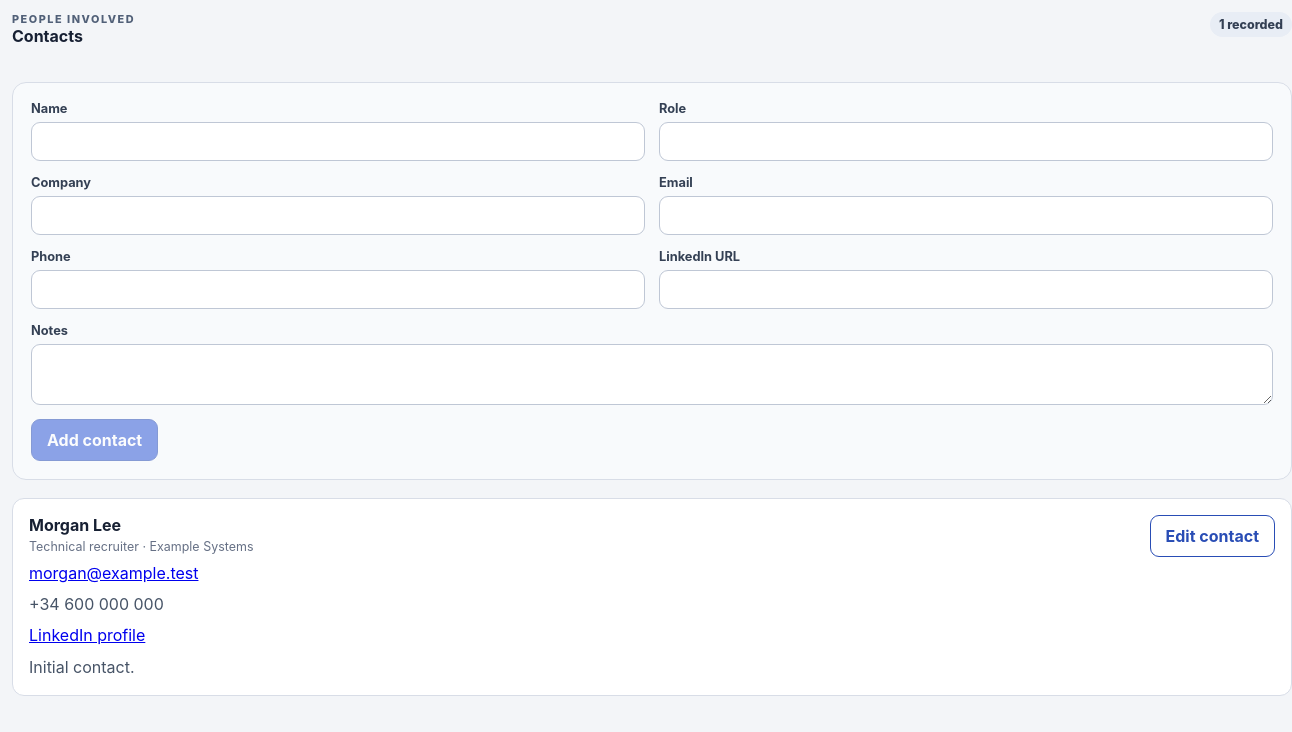
Test case: ApplicationContacts › cancels editing without mutating the saved contact
Expected: the text "Technical recruiter · Example Systems" is shown, top-left (29, 539), bottom-right (254, 554)
Click the button "Edit contact": (1212, 536) top-left (1150, 515), bottom-right (1275, 557)
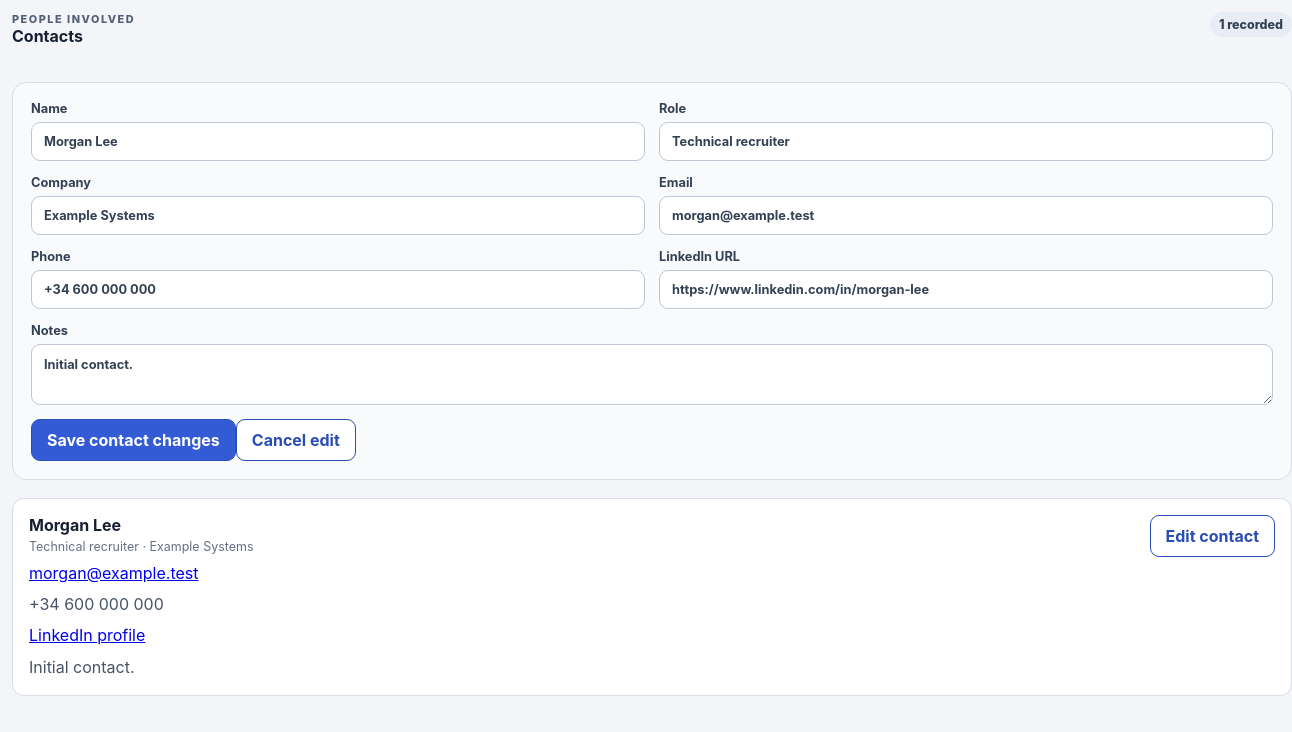
Replace the text in the field labelled "Name" with "Changed locally": (338, 142) top-left (31, 122), bottom-right (645, 161)
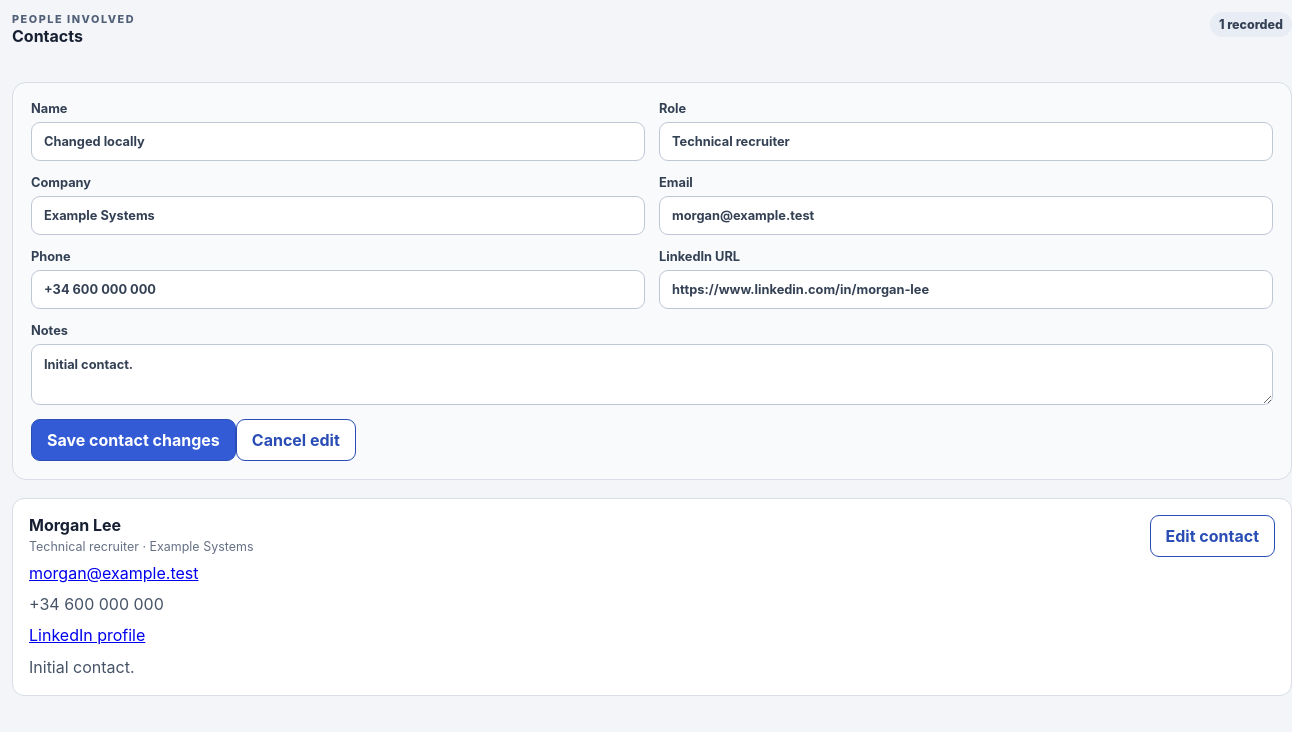
Click the button "Cancel edit": (296, 440) top-left (236, 419), bottom-right (356, 461)
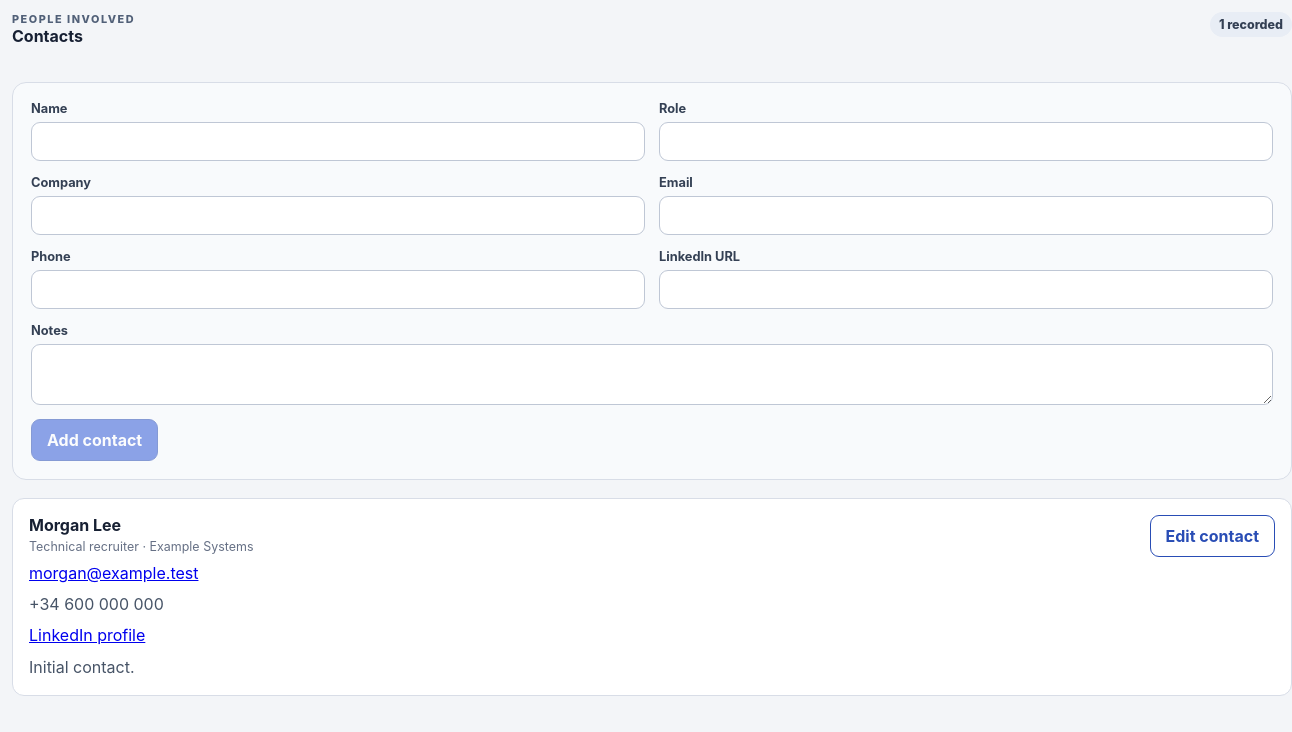
Expected: the text "Morgan Lee" is shown, top-left (29, 515), bottom-right (121, 535)
Expected: the field labelled "Name" is empty, top-left (31, 122), bottom-right (645, 161)
